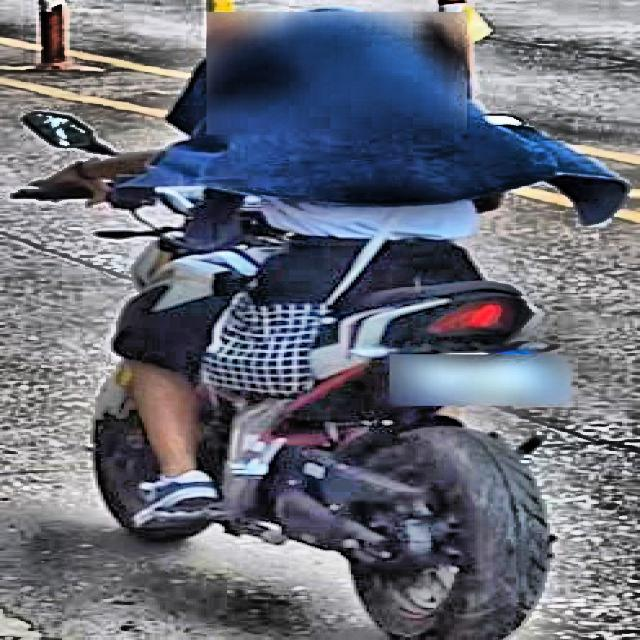motorcycle: (13, 107, 596, 640)
